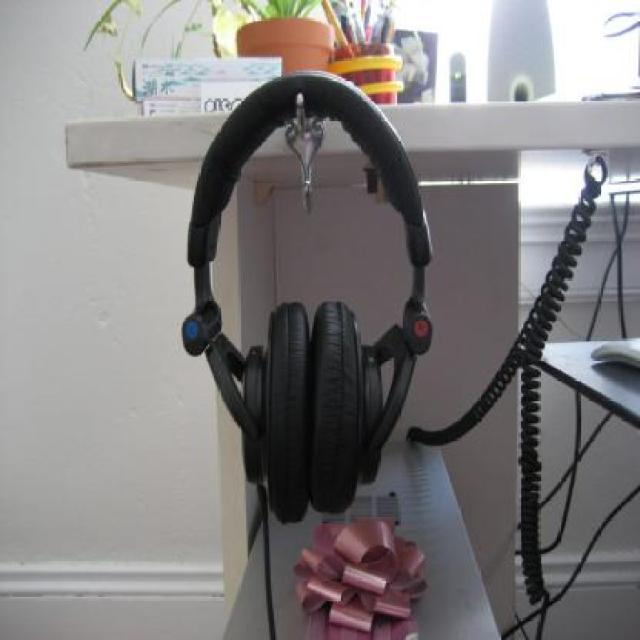earphone: (189, 70, 445, 510)
